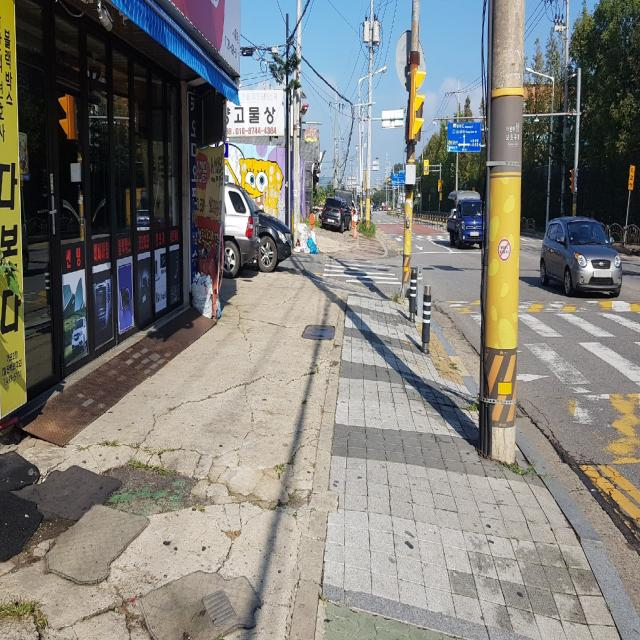횡단보도: (451, 301, 640, 466), (322, 257, 403, 286)
